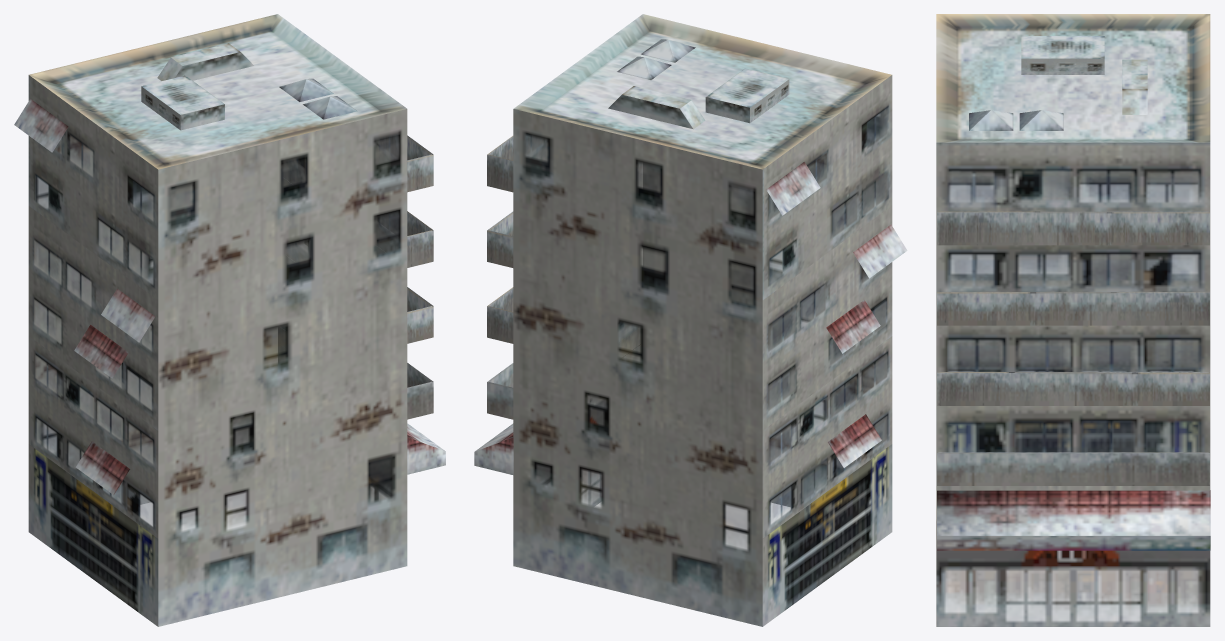
File: Civilian - Residential Building - Asian Apartment 01 - Snow and Night - CBNApart01_SN.glb
3 renders of one model, left to right at view 1: azimuth 30°, elevation 25°; view 2: azimuth 150°, elevation 25°; view 3: azimuth 270°, elevation 25°, orthographic. The views are drawn at different scales.
Parts seen in each view (by area): view 1: CBNAPART01_SN; view 2: CBNAPART01_SN; view 3: CBNAPART01_SN.
Boxes of the visible parts, x1=… form: CBNAPART01_SN: x1=14, y1=14, x2=445, y2=626; CBNAPART01_SN: x1=474, y1=14, x2=907, y2=626; CBNAPART01_SN: x1=936, y1=14, x2=1210, y2=626.
Size of the model in its own units: 48.98 by 71.91 by 36.04.
1 material, 1 textured.
